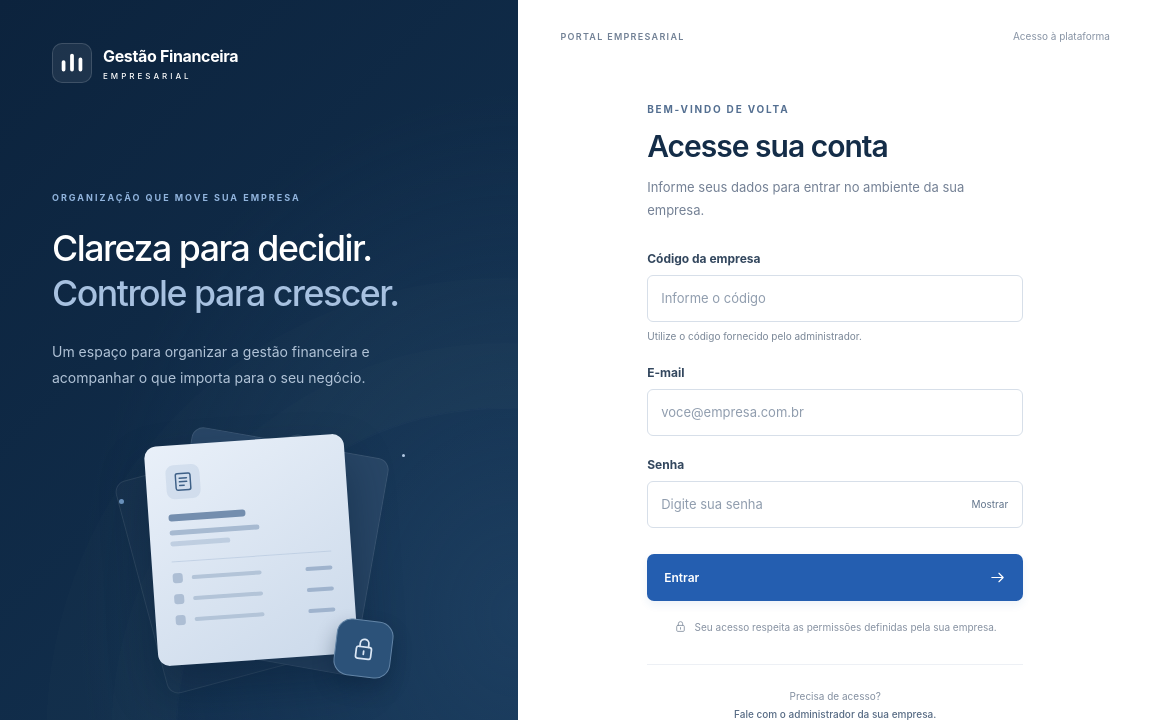
it: Acesso empresarial › rejeita código de empresa inválido -1
This screenshot has width=1152, height=720.
Type "-1" into the field labelled "Código da empresa" at (835, 298), box [647,275,1023,322]
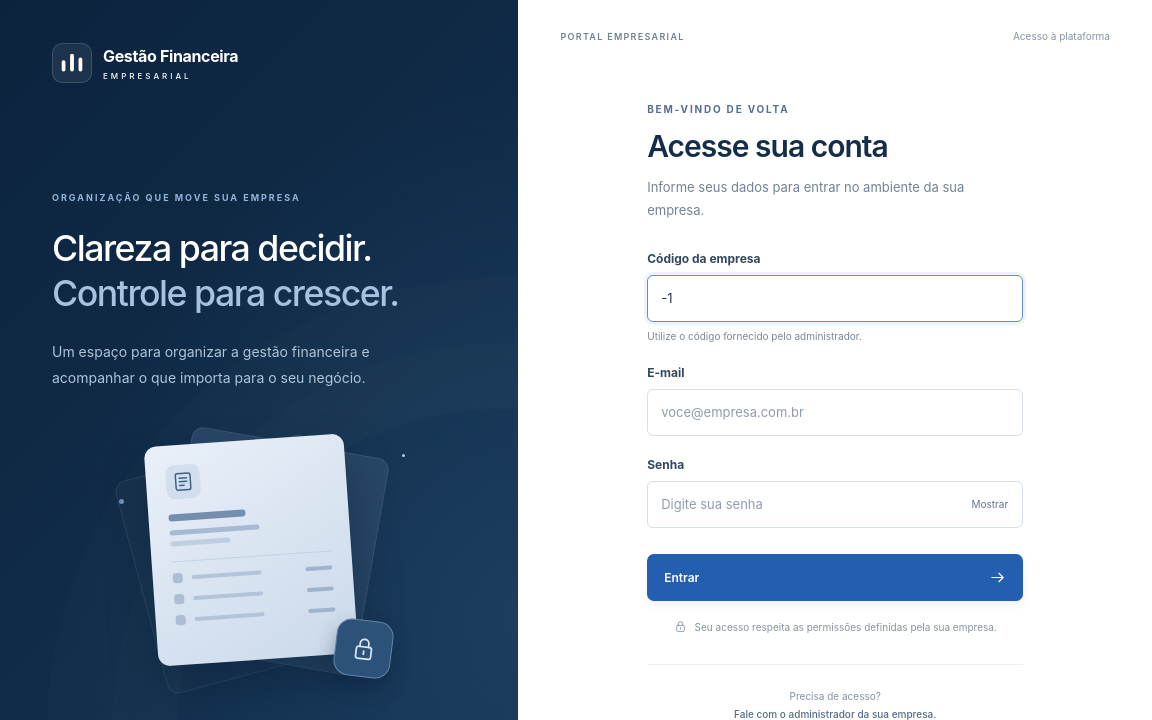
Click the button "Entrar" at (682, 577), box [647,554,1023,601]
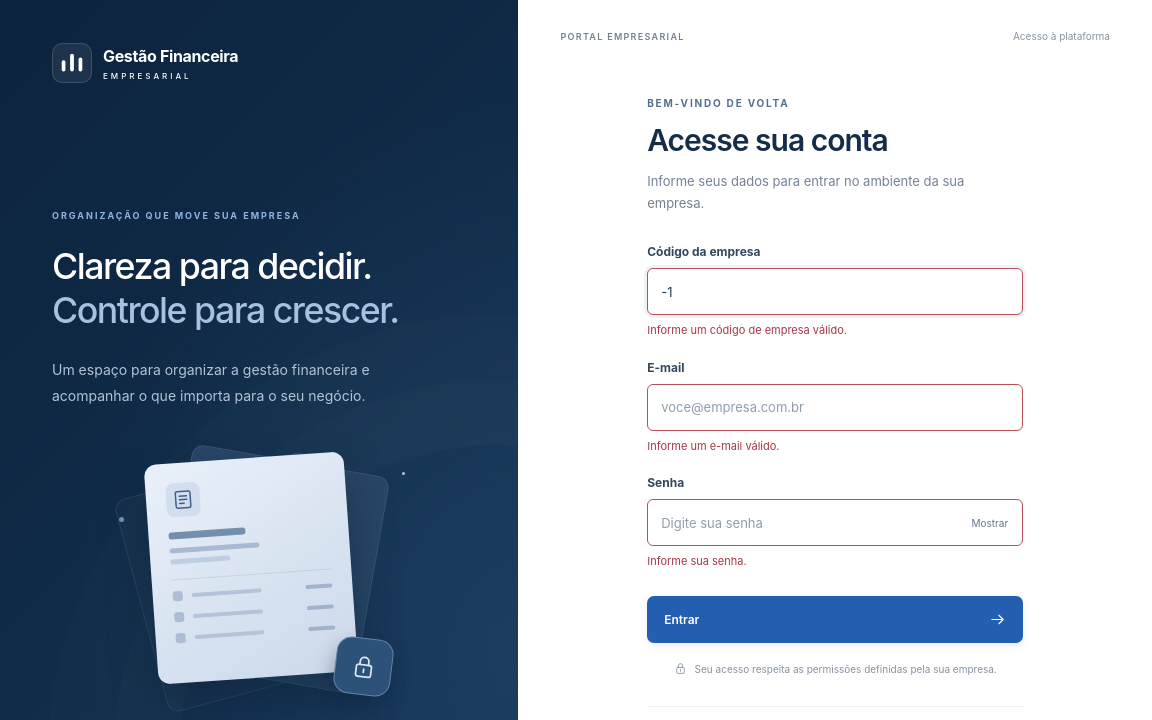
Expected: the text "Informe um código de empresa válido." is shown, [647,323,847,337]
